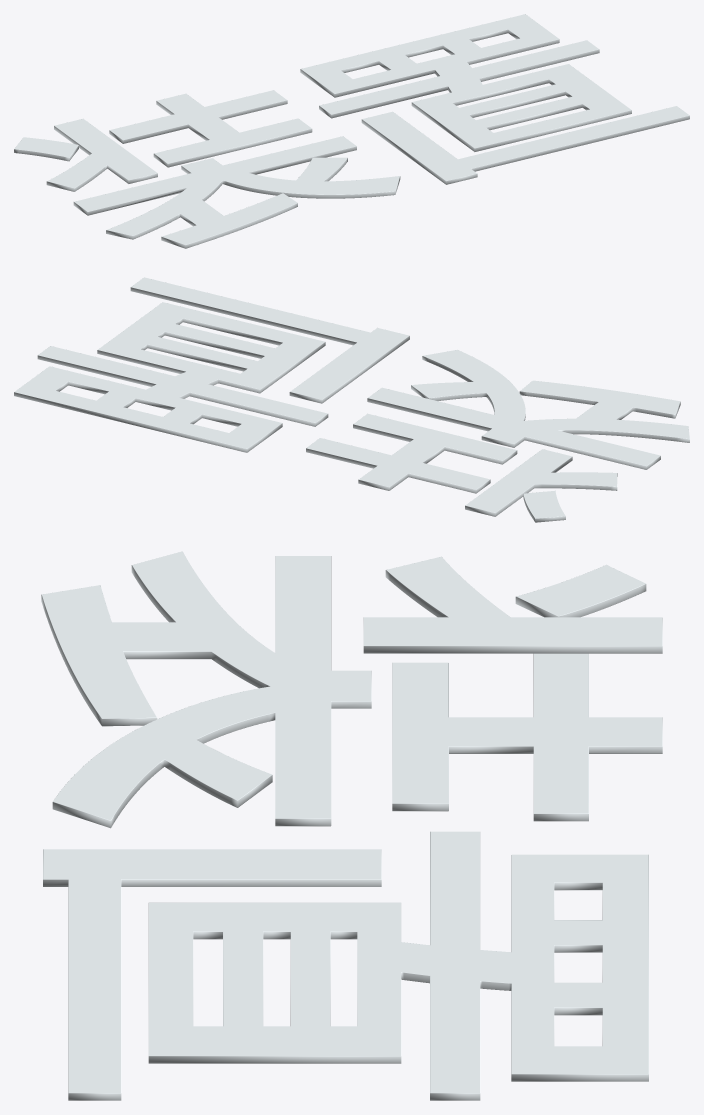
The model's file is category_device.obj.
The picture shows the model from 3 angles, top to bottom: view 1: azimuth 30°, elevation 25°; view 2: azimuth 150°, elevation 25°; view 3: azimuth 270°, elevation 25°; orthographic projection. The views are drawn at different scales.
Parts seen in each view (by area): view 1: category_device; view 2: category_device; view 3: category_device.
Boxes of the visible parts, bbox=[...] form: category_device: bbox=[14, 14, 689, 248]; category_device: bbox=[14, 277, 689, 522]; category_device: bbox=[41, 551, 662, 1100].
Size of the model in its own units: 1.49 by 0.00981 by 0.72.
1 material, 1 textured.
